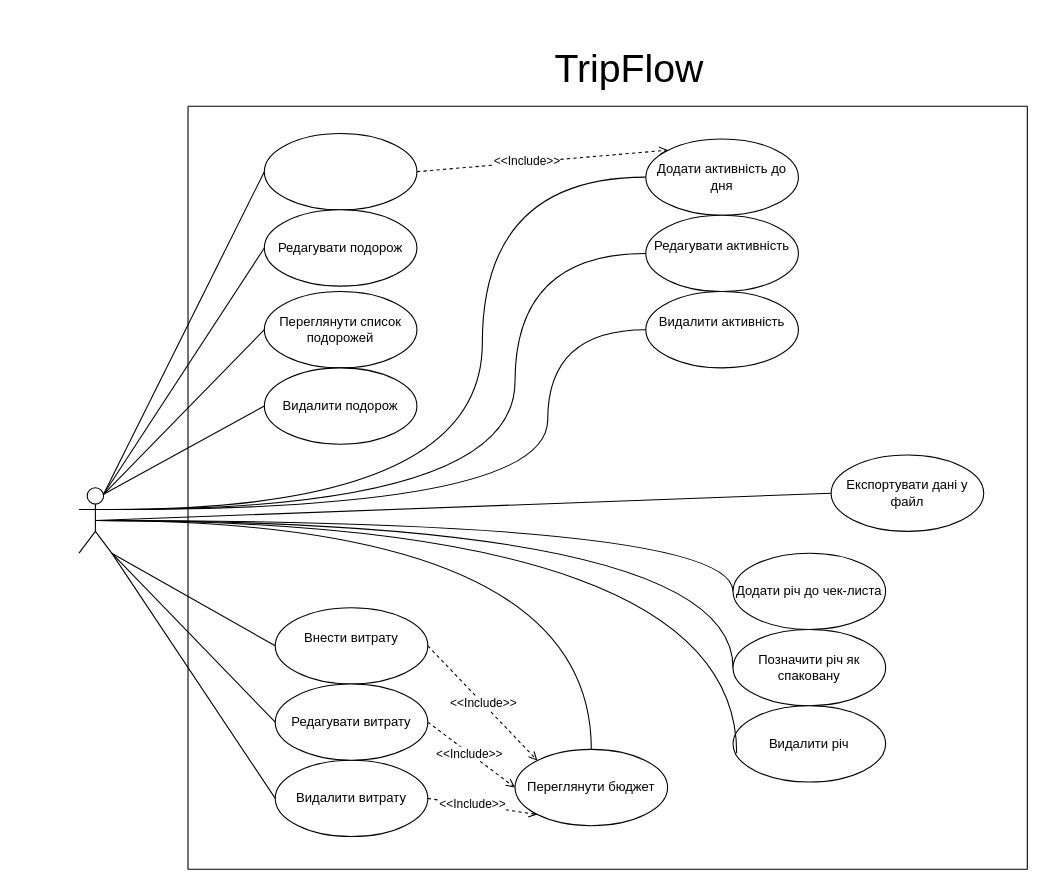
Some shapes in this 1046 by 888 pixel diagram are drawn without their labels. Each missing label, with the box of its shape:
Користувач (Мандрівник): (78, 487, 112, 553)
Створити подорож: (263, 132, 417, 210)
